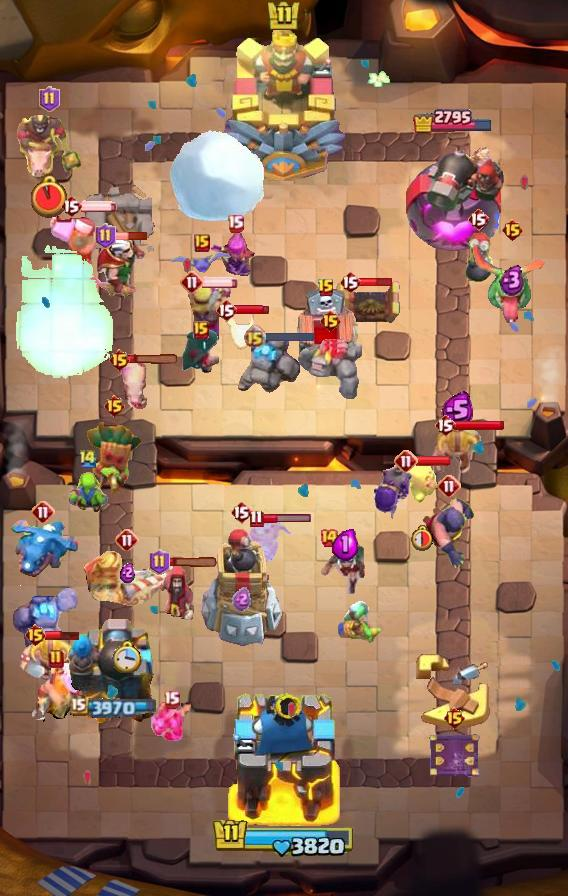archer-evolution: (210, 226, 260, 282)
bandit: (321, 540, 369, 596), (179, 328, 223, 376)
bar: (263, 330, 315, 343), (453, 419, 505, 431), (167, 557, 219, 568), (128, 354, 180, 365), (261, 513, 312, 524), (201, 276, 239, 288), (80, 200, 118, 212), (416, 455, 452, 467), (234, 304, 270, 316), (359, 276, 394, 288), (45, 630, 81, 641), (113, 231, 148, 241)
bar-level: (115, 528, 139, 552), (31, 500, 55, 524), (437, 474, 461, 498), (394, 449, 418, 473), (180, 270, 204, 294), (443, 706, 466, 730), (24, 623, 47, 647), (103, 394, 126, 418), (108, 348, 131, 372), (319, 309, 342, 333), (501, 218, 524, 242), (149, 549, 170, 575), (95, 223, 116, 249), (39, 86, 60, 112), (243, 325, 266, 348), (230, 500, 252, 524), (434, 413, 456, 437), (215, 298, 237, 322), (339, 270, 361, 294), (467, 207, 489, 231), (60, 194, 82, 218), (78, 448, 98, 469), (319, 528, 339, 548), (317, 278, 335, 298), (163, 690, 180, 709), (227, 214, 244, 233), (48, 649, 64, 669), (193, 321, 209, 339), (194, 234, 210, 252), (249, 509, 264, 528)
barbarian-evolution: (183, 282, 233, 348)
bat-evolution: (170, 249, 234, 275)
bomber: (461, 232, 495, 286)
bomber-evolution: (370, 460, 416, 524)
cannoneer-tower: (402, 136, 504, 256), (67, 611, 161, 731)
clock: (31, 174, 67, 218), (112, 640, 142, 673), (409, 524, 433, 551)
dart-goblin: (84, 419, 144, 499)
electro-dragon: (8, 515, 78, 579)
elite-barbarian: (19, 634, 81, 682), (432, 425, 482, 477)
elixir: (441, 391, 474, 429), (332, 527, 359, 561), (500, 264, 525, 296), (232, 587, 251, 611), (120, 562, 135, 583)
executioner: (421, 495, 477, 569)
goblin: (66, 466, 110, 521)
golemite: (12, 585, 78, 657), (297, 338, 363, 400), (234, 337, 300, 399)
heal-spirit: (404, 457, 438, 503)
hog: (119, 356, 153, 412)
king-tower: (220, 21, 348, 181), (227, 688, 342, 826)
king-tower-bar: (212, 817, 356, 859)
lava-pup: (224, 313, 258, 351)
little-prince: (241, 518, 293, 573)
lumberjack: (49, 211, 119, 273), (25, 663, 87, 729)
minion: (150, 697, 192, 743)
spear-goblin: (334, 600, 384, 644)
tesla: (332, 279, 404, 327)
tower-bar: (412, 107, 494, 133), (70, 695, 159, 718)
wizard: (155, 565, 197, 625)
